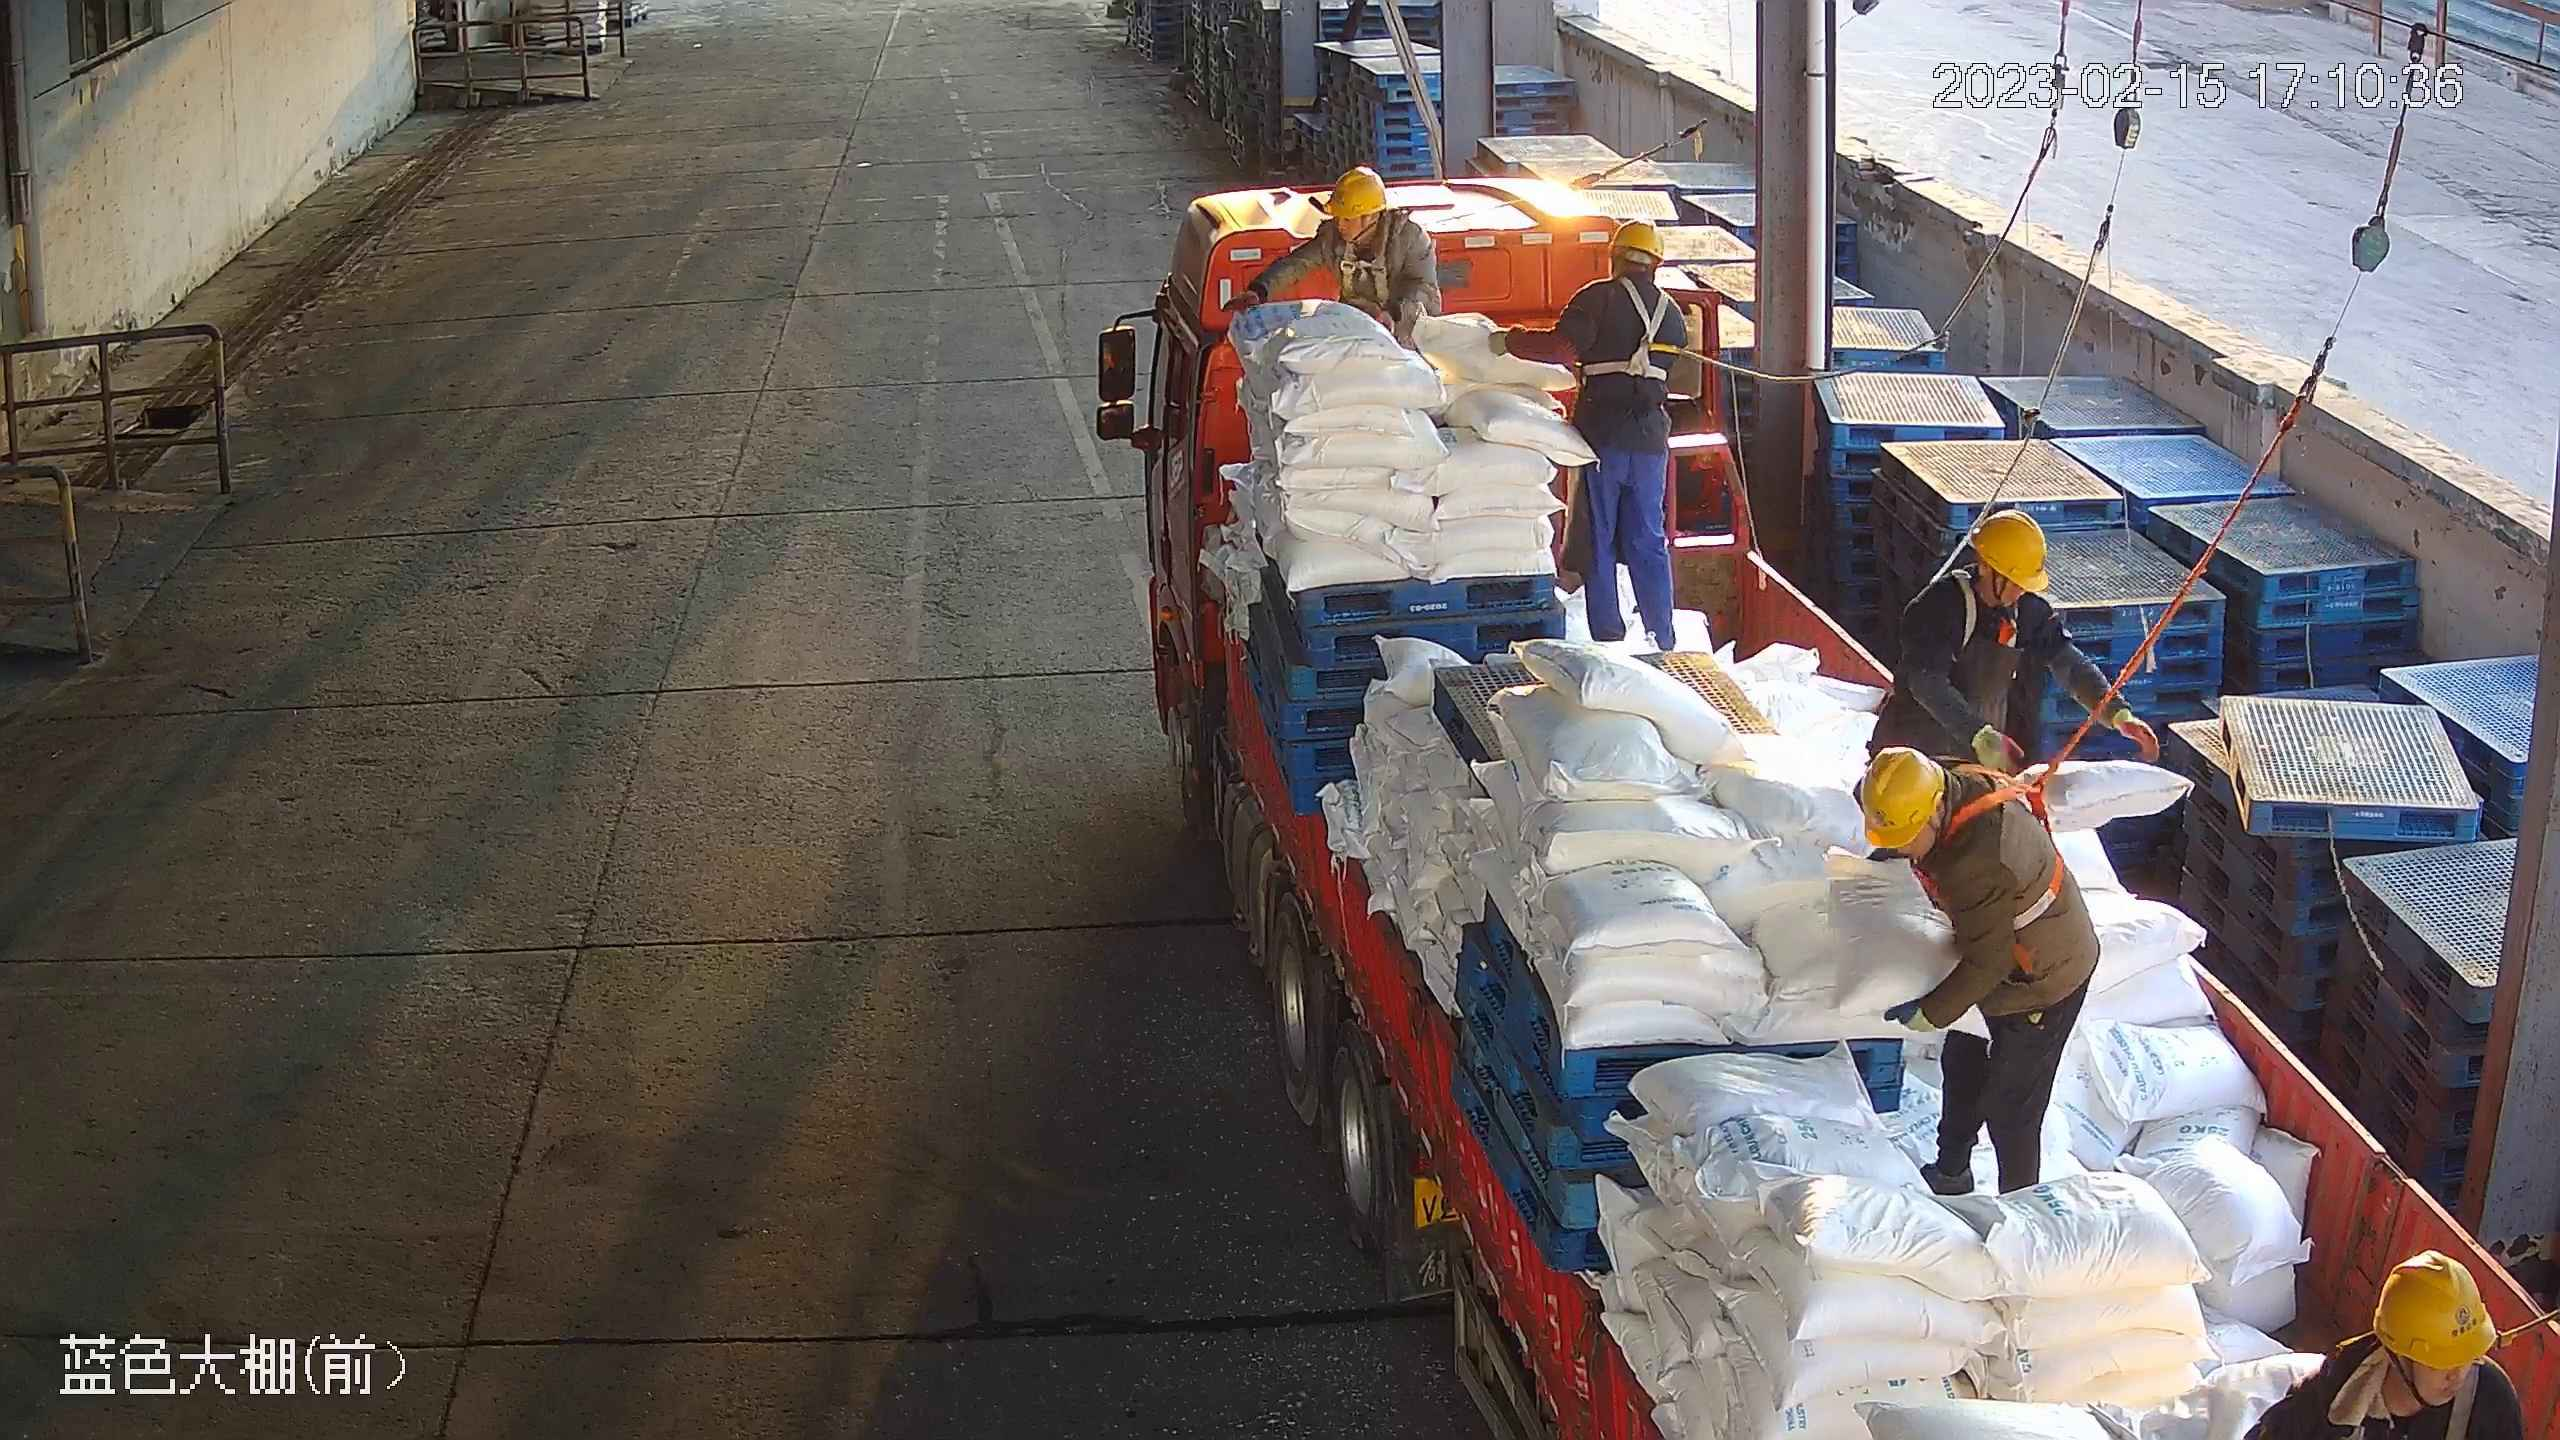belt: (1952, 745, 2069, 933), (1929, 551, 2036, 654), (1586, 277, 1681, 383), (1321, 230, 1405, 308)
head: (2300, 1247, 2526, 1437), (1909, 514, 2074, 673), (1862, 747, 2019, 913), (1322, 170, 1434, 295), (1583, 214, 1683, 339)
helmet: (2372, 1249, 2500, 1370), (1864, 745, 1945, 852), (1974, 511, 2051, 594), (1325, 168, 1385, 218), (1610, 216, 1664, 266)
people: (1862, 740, 2097, 1195), (1483, 218, 1691, 651), (1872, 513, 2163, 780)
truck: (1098, 170, 2560, 1440)
